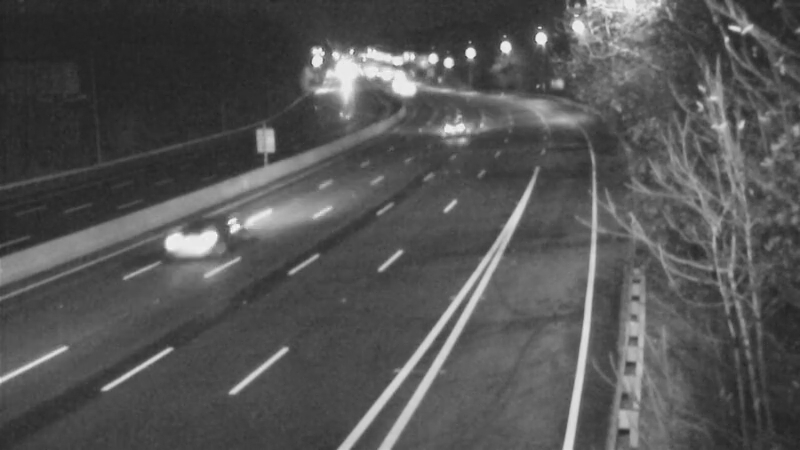vehicle: (160, 196, 240, 276), (380, 63, 430, 113), (431, 104, 481, 154)
